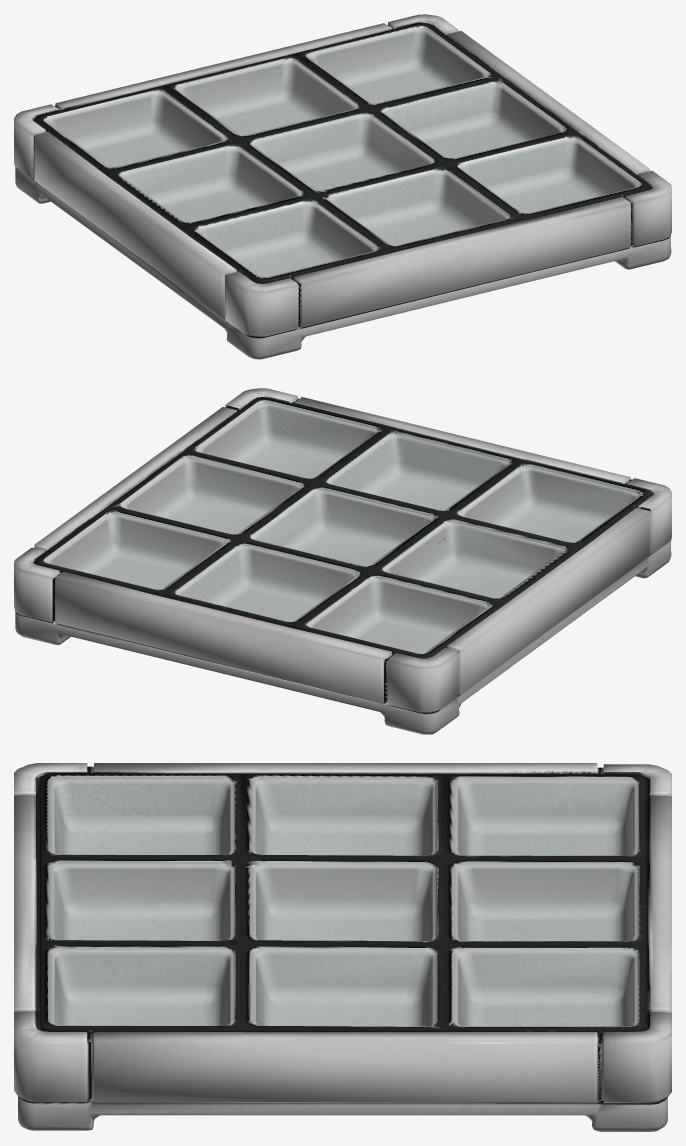
Rendered from tripo_convert_4374d637-69a3-4ef4-9cb5-62e15795dea2.fbx.
3 renders of one model, top to bottom at view 1: azimuth 30°, elevation 25°; view 2: azimuth 150°, elevation 25°; view 3: azimuth 270°, elevation 25°, orthographic. The views are drawn at different scales.
Visible parts, largest first — view 1: tripo_node_4374d637; view 2: tripo_node_4374d637; view 3: tripo_node_4374d637.
Boxes of the visible parts, bbox=[...] form: tripo_node_4374d637: bbox=[14, 14, 671, 359]; tripo_node_4374d637: bbox=[14, 388, 671, 734]; tripo_node_4374d637: bbox=[14, 763, 671, 1131].
Size of the model in its own units: 0.998 by 0.1621 by 0.998.
Materials: 1 (1 with a texture image).
